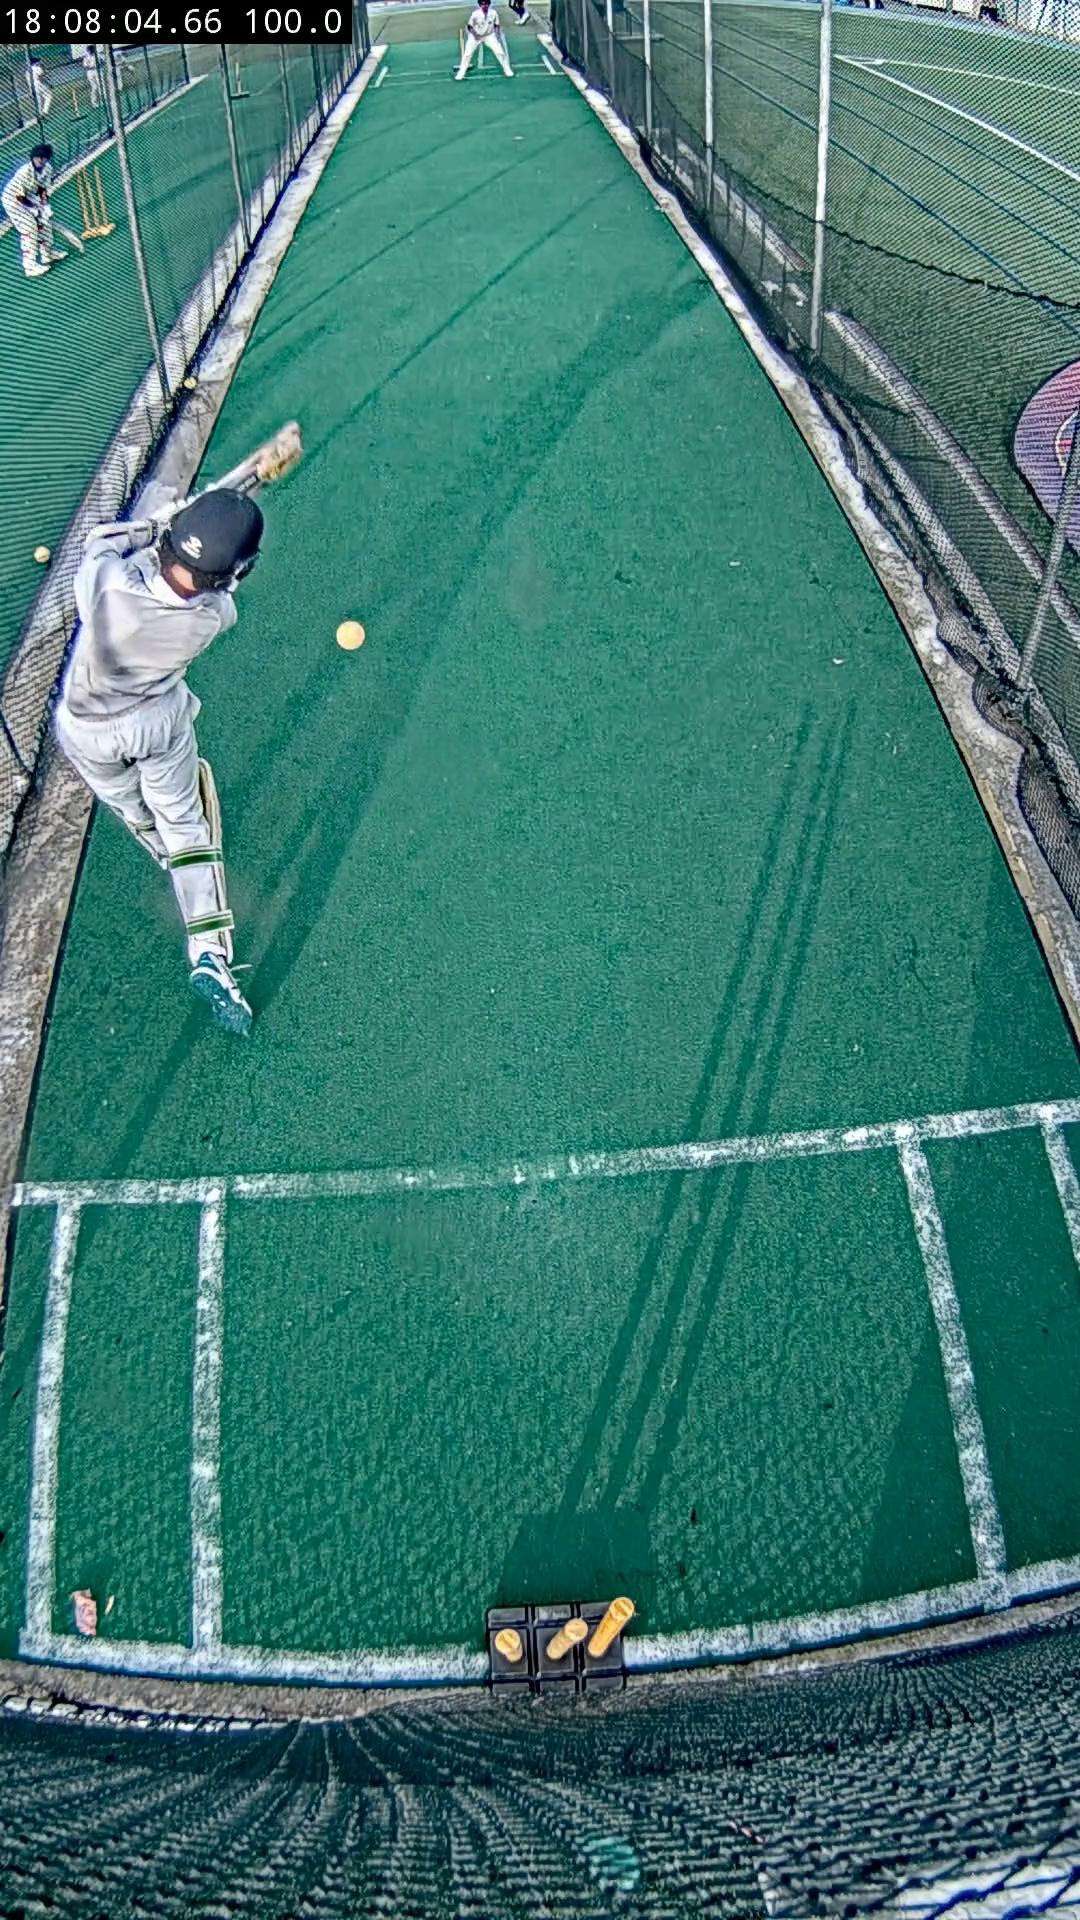ball: (338, 618, 364, 649)
bat: (199, 419, 303, 495)
helmet: (169, 488, 262, 588)
stumps: (488, 1601, 634, 1693)
